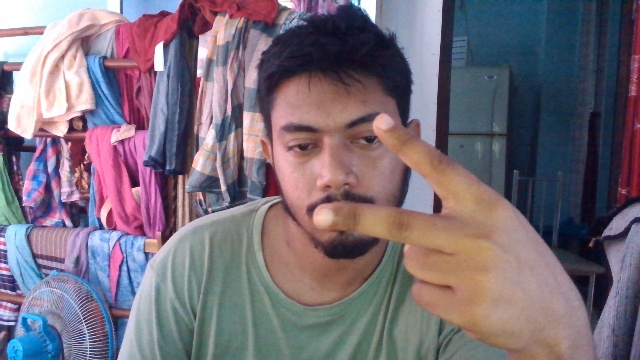thanks: (311, 109, 574, 359)
